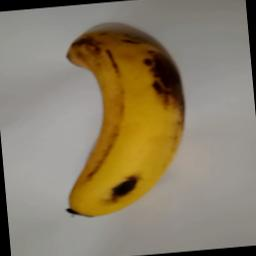Banana Unripe: (52, 20, 194, 218)
